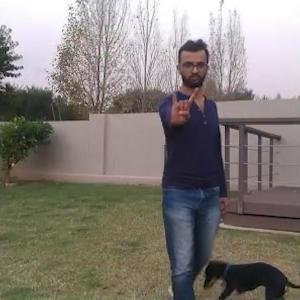takeoff-hand: (161, 81, 205, 130)
